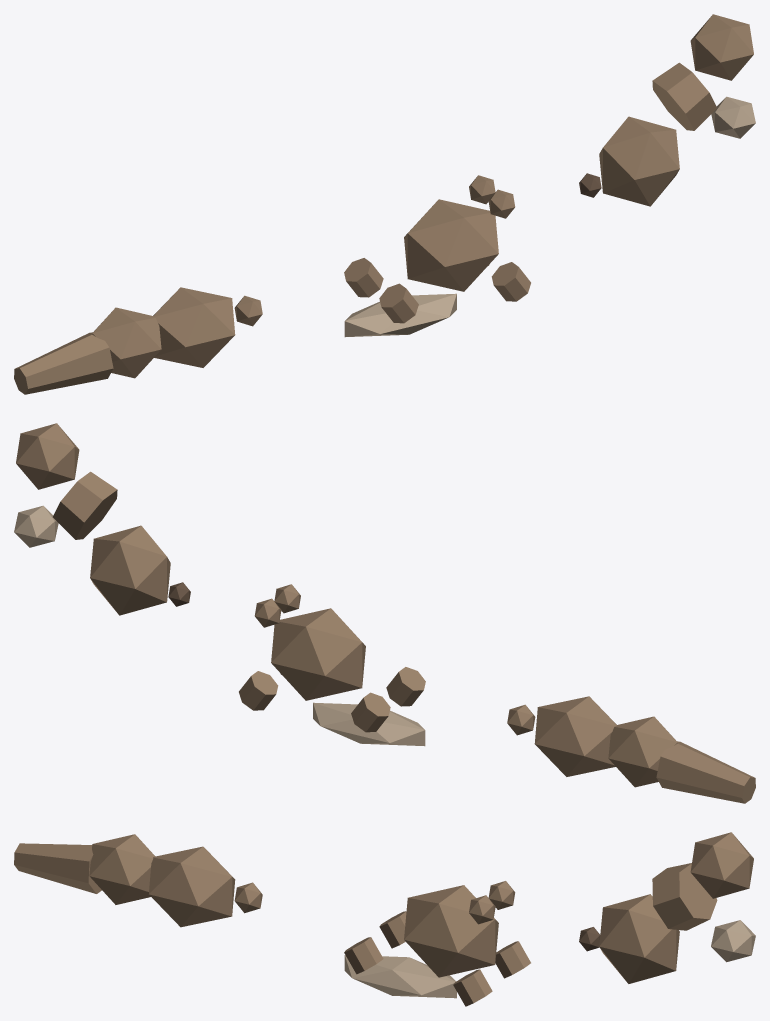
3 renders of one model, top to bottom at view 1: azimuth 30°, elevation 25°; view 2: azimuth 150°, elevation 25°; view 3: azimuth 330°, elevation 25°, orthographic.
Visible parts, largest first — view 1: part1, part0, part2, part11, part3, part6, part4, part5, part7, part14, part15, part16 (+1 smaller); view 2: part1, part0, part2, part11, part3, part6, part4, part5, part7, part13, part16, part15 (+1 smaller); view 3: part1, part2, part0, part3, part6, part5, part4, part11, part7, part14, part16, part13 (+5 smaller).
Part boxes in pixels (left/top/right/bottom): part1: left=404, top=199, right=498, bottom=291; part0: left=599, top=116, right=679, bottom=206; part2: left=153, top=287, right=235, bottom=367; part11: left=14, top=332, right=113, bottom=394; part3: left=92, top=307, right=161, bottom=378; part6: left=690, top=14, right=753, bottom=80; part4: left=344, top=293, right=456, bottom=337; part5: left=652, top=62, right=716, bottom=130; part7: left=711, top=96, right=755, bottom=138; part14: left=491, top=262, right=530, bottom=301; part15: left=344, top=258, right=383, bottom=297; part16: left=379, top=283, right=418, bottom=323; part1: left=271, top=608, right=365, bottom=700; part0: left=90, top=525, right=170, bottom=615; part2: left=534, top=696, right=616, bottom=776; part11: left=656, top=741, right=755, bottom=803; part3: left=608, top=716, right=677, bottom=787; part6: left=16, top=423, right=79, bottom=489; part4: left=313, top=702, right=425, bottom=746; part5: left=53, top=471, right=117, bottom=539; part7: left=14, top=505, right=58, bottom=547; part13: left=239, top=671, right=278, bottom=710; part16: left=386, top=667, right=425, bottom=706; part15: left=351, top=692, right=390, bottom=732; part1: left=404, top=885, right=498, bottom=977; part2: left=149, top=846, right=235, bottom=927; part0: left=599, top=894, right=679, bottom=983; part3: left=89, top=834, right=155, bottom=904; part6: left=690, top=832, right=753, bottom=898; part5: left=652, top=863, right=717, bottom=930; part4: left=344, top=955, right=456, bottom=998; part11: left=14, top=843, right=101, bottom=893; part7: left=711, top=920, right=755, bottom=962; part14: left=453, top=969, right=492, bottom=1006; part16: left=344, top=937, right=383, bottom=974; part13: left=495, top=941, right=530, bottom=978.
Bounding box in the file's own units: 10.54 × 3.15 × 1.35.
